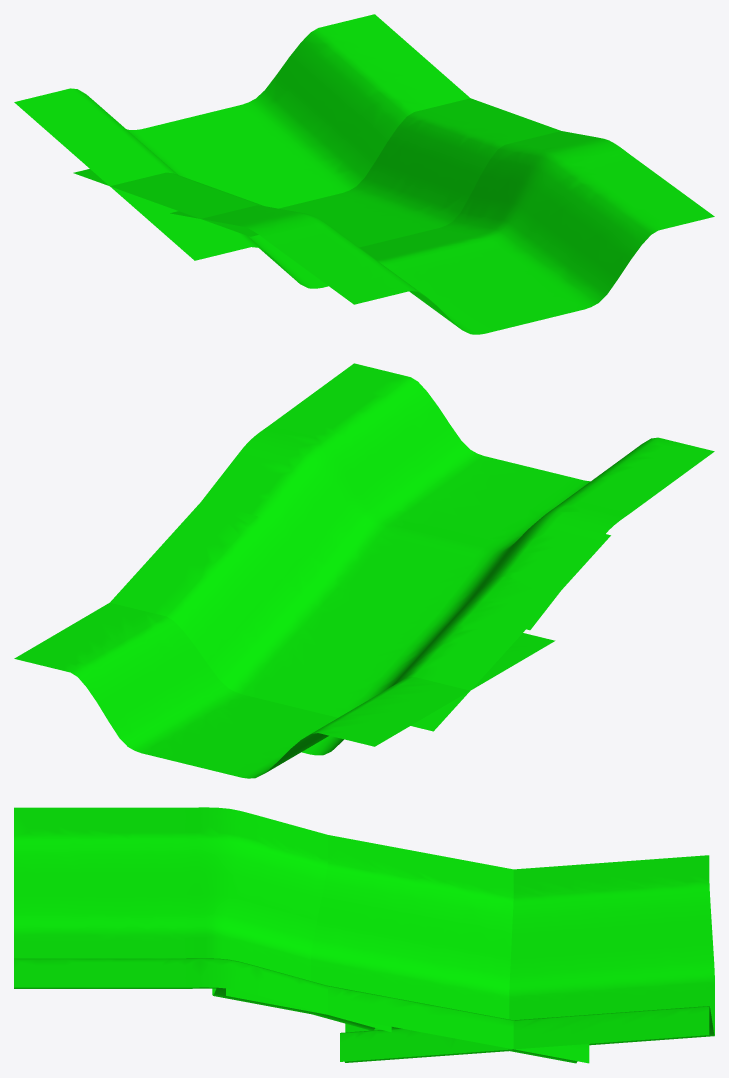
The model's file is MyStage4.fbx.
3 renders of one model, top to bottom at view 1: azimuth 30°, elevation 25°; view 2: azimuth 150°, elevation 25°; view 3: azimuth 270°, elevation 25°, orthographic. The views are drawn at different scales.
Visible parts, largest first — view 1: pPlane4; view 2: pPlane4; view 3: pPlane4.
Boxes of the visible parts, <box> form: pPlane4: <box>14,14,714,334</box>; pPlane4: <box>14,363,714,778</box>; pPlane4: <box>14,807,714,1063</box>.
Size of the model in its own units: 57.43 by 20.39 by 94.51.
